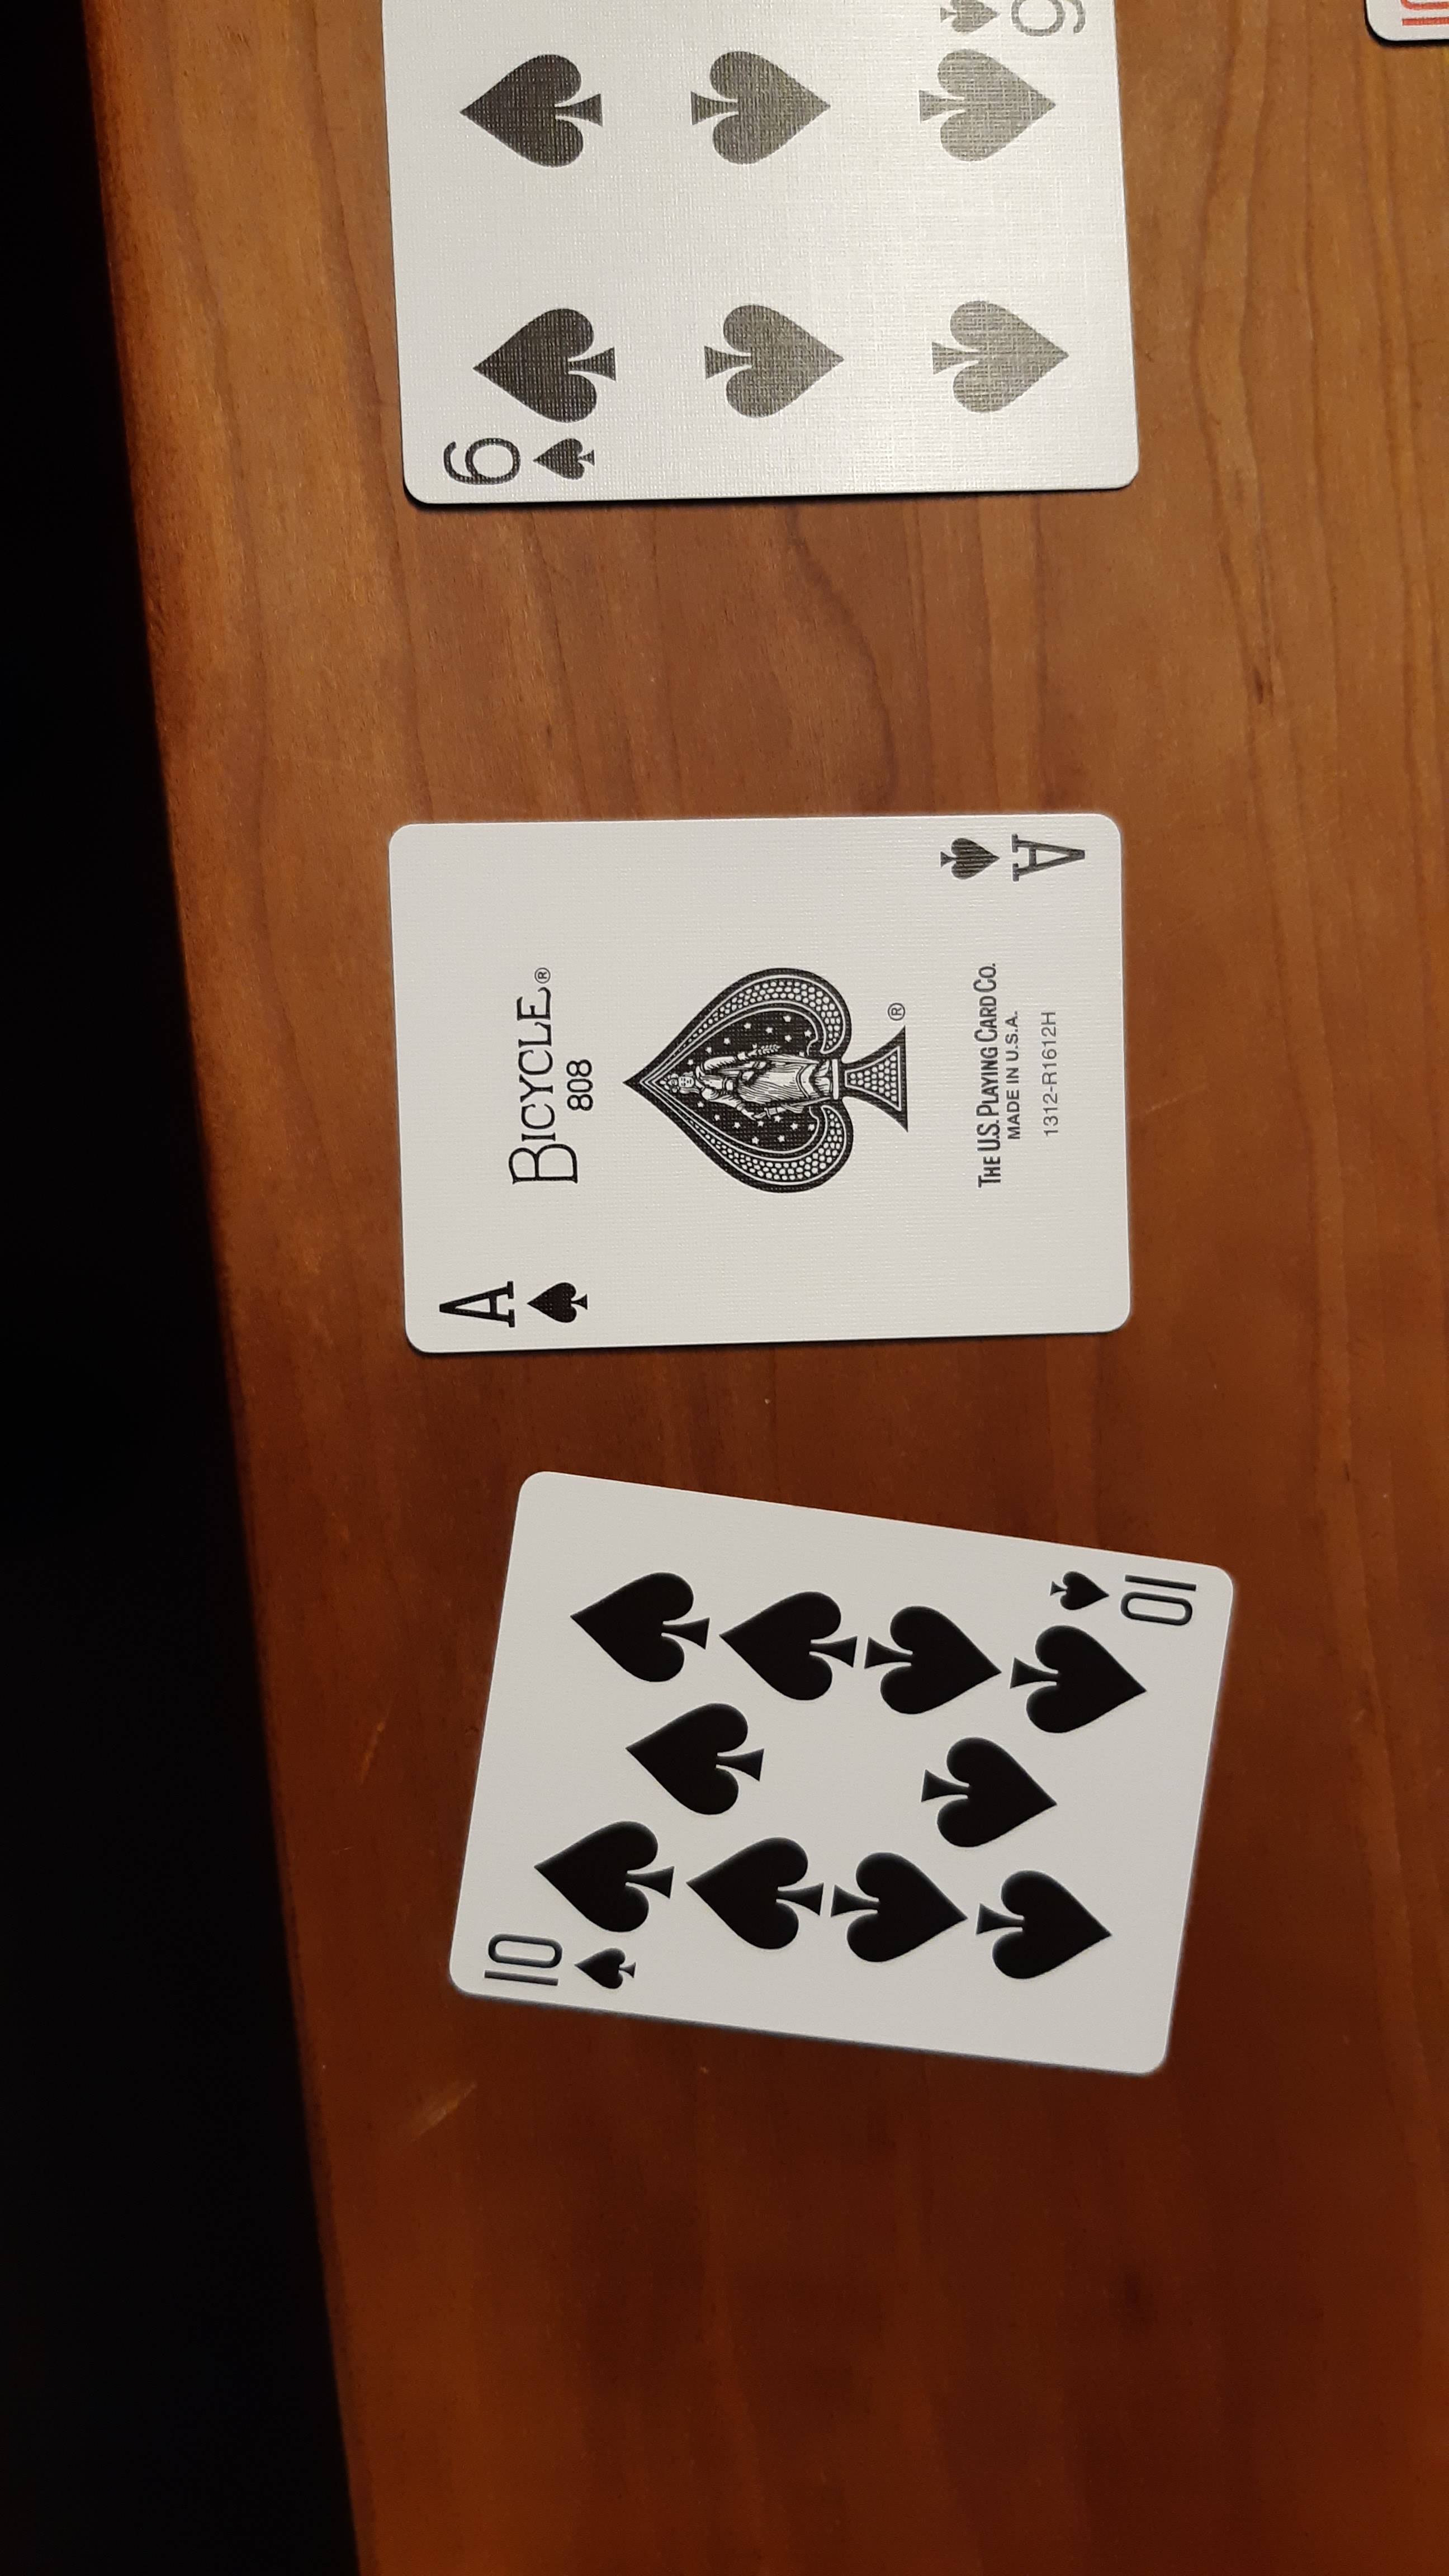Black_Spade_10: (462, 1914, 658, 2010), (1037, 1552, 1217, 1640)
Black_Spade_6: (402, 7, 1104, 487)
Black_Spade_Ace: (924, 812, 1115, 895), (414, 1265, 598, 1338)
